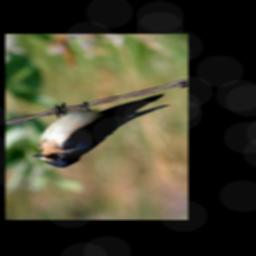Swallow: (31, 90, 170, 170)
